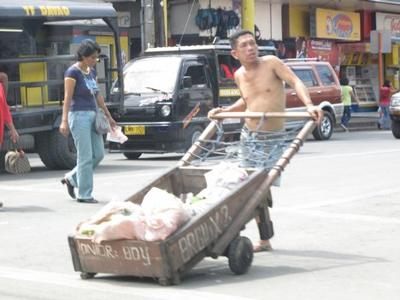person: (207, 29, 323, 254)
